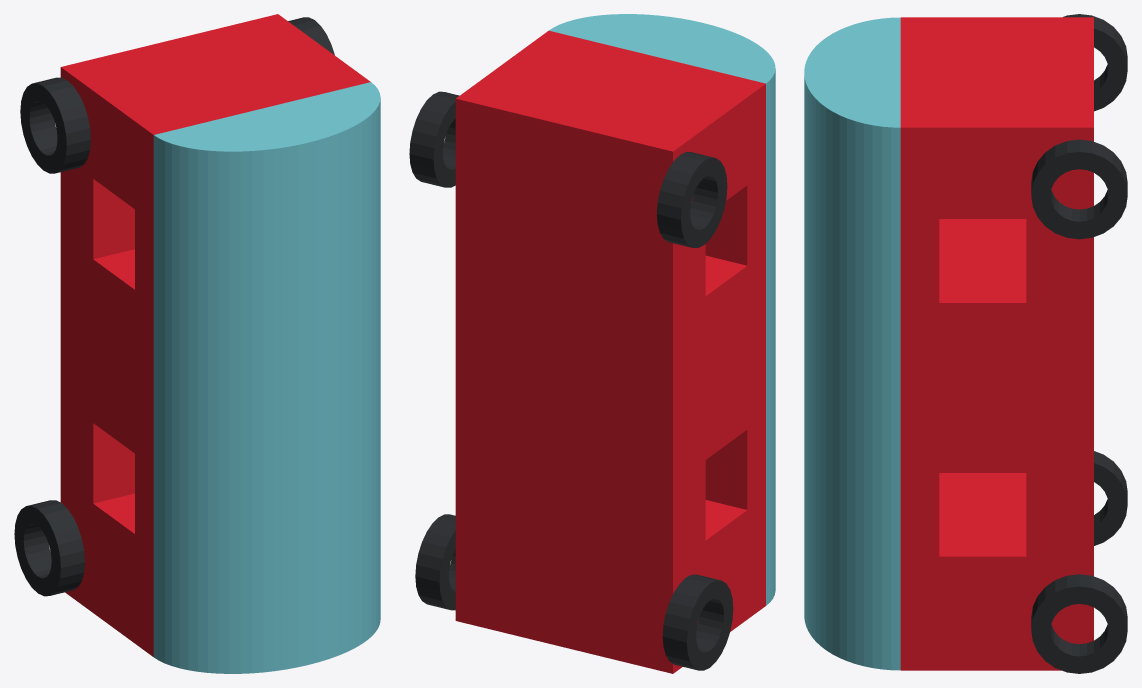
Rendered from tinker.obj.
The picture shows the model from 3 angles, left to right: view 1: azimuth 30°, elevation 25°; view 2: azimuth 150°, elevation 25°; view 3: azimuth 270°, elevation 25°; orthographic projection. The views are drawn at different scales.
Visible parts, largest first — view 1: group_0_7720667, group_0_15277357, group_0_2829873; view 2: group_0_15277357, group_0_2829873, group_0_7720667; view 3: group_0_15277357, group_0_7720667, group_0_2829873.
Part boxes in pixels (bbox=[...]): group_0_7720667: bbox=[153, 82, 380, 673]; group_0_15277357: bbox=[60, 14, 370, 656]; group_0_2829873: bbox=[14, 17, 334, 596]; group_0_15277357: bbox=[455, 30, 765, 673]; group_0_2829873: bbox=[409, 91, 733, 670]; group_0_7720667: bbox=[549, 14, 775, 605]; group_0_15277357: bbox=[900, 17, 1093, 670]; group_0_7720667: bbox=[804, 17, 900, 670]; group_0_2829873: bbox=[1031, 14, 1127, 673].
Bounding box in the file's own units: 17.23 × 31 × 16.75.
